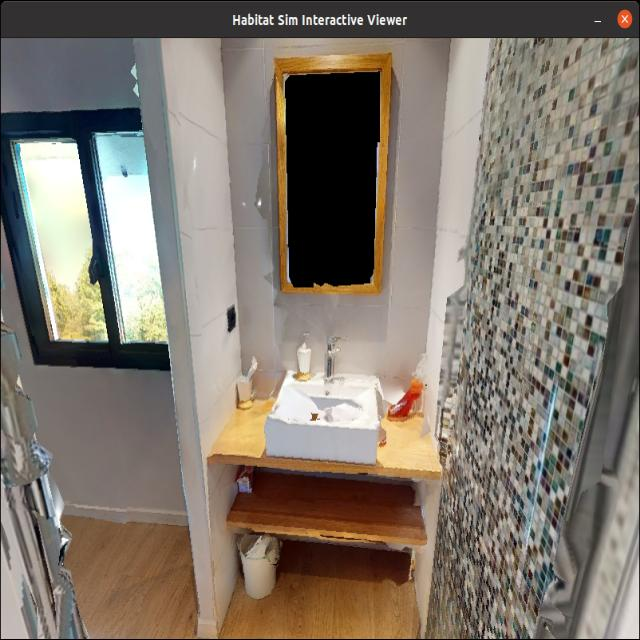door-frame: (0, 41, 235, 640)
sink: (272, 327, 386, 485)
